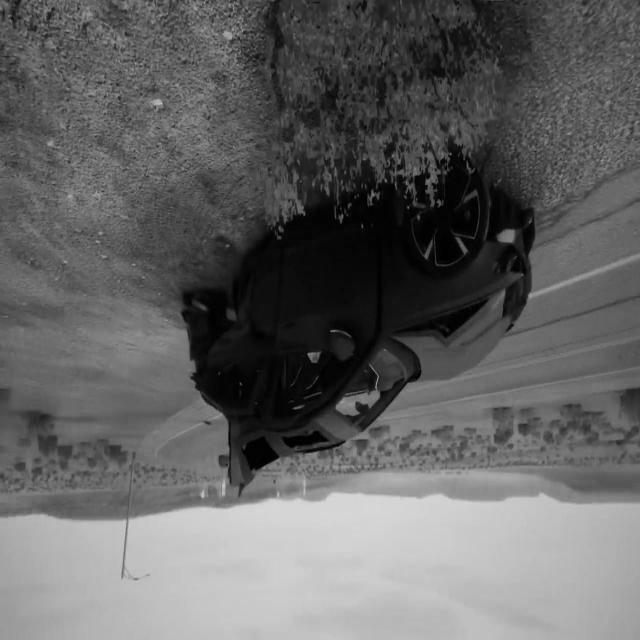severe: (176, 160, 540, 488)
